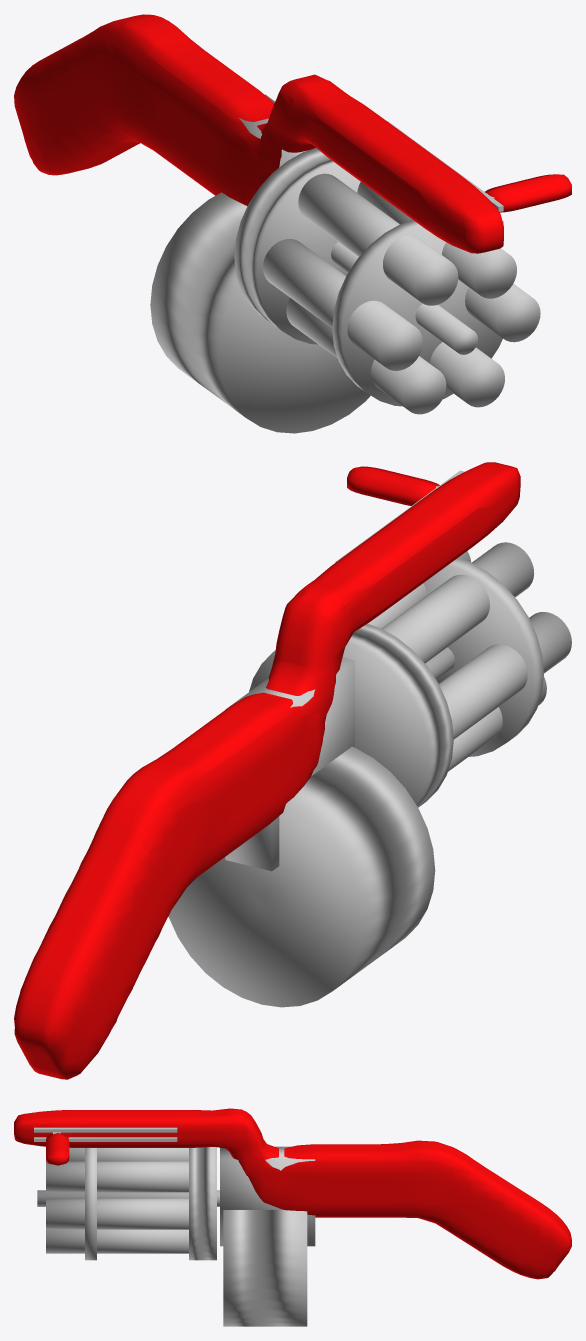
The picture shows the model from 3 angles, top to bottom: view 1: azimuth 30°, elevation 25°; view 2: azimuth 150°, elevation 25°; view 3: azimuth 270°, elevation 25°; orthographic projection. The views are drawn at different scales.
Visible parts, largest first — view 1: МСфера, Окружность.002, Окружность, Окружность.001, Цилиндр.007, Цилиндр.003, Цилиндр.004, Цилиндр.005, Цилиндр.006, Цилиндр.002, Цилиндр; view 2: МСфера, Окружность.002, Окружность, Окружность.001, Цилиндр.007, Цилиндр.003, Куб, Цилиндр.004, Цилиндр.005; view 3: МСфера, Окружность.002, Цилиндр.002, Цилиндр.005, Цилиндр.006, Окружность, Куб, Цилиндр.007, Окружность.001, Цилиндр, Куб.001_Куб.003, Куб.002_Куб.004.
Boxes of the visible parts, left/top/right/bottom form: МСфера: left=14, top=14, right=571, bottom=253; Окружность.002: left=150, top=192, right=370, bottom=433; Окружность: left=234, top=148, right=360, bottom=344; Окружность.001: left=332, top=220, right=502, bottom=406; Цилиндр.007: left=298, top=173, right=458, bottom=305; Цилиндр.003: left=263, top=239, right=422, bottom=370; Цилиндр.004: left=286, top=298, right=446, bottom=414; Цилиндр.005: left=357, top=182, right=516, bottom=298; Цилиндр.006: left=430, top=342, right=504, bottom=407; Цилиндр.002: left=465, top=284, right=540, bottom=342; Цилиндр: left=331, top=242, right=477, bottom=354; МСфера: left=14, top=462, right=520, bottom=1079; Окружность.002: left=168, top=746, right=435, bottom=1007; Окружность: left=249, top=624, right=453, bottom=807; Окружность.001: left=423, top=558, right=543, bottom=756; Цилиндр.007: left=381, top=542, right=533, bottom=663; Цилиндр.003: left=439, top=612, right=571, bottom=739; Куб: left=225, top=657, right=354, bottom=871; Цилиндр.004: left=448, top=676, right=546, bottom=771; Цилиндр.005: left=367, top=551, right=471, bottom=628; МСфера: left=14, top=1108, right=571, bottom=1279; Окружность.002: left=223, top=1210, right=307, bottom=1326; Цилиндр.002: left=46, top=1198, right=188, bottom=1229; Цилиндр.005: left=46, top=1161, right=188, bottom=1192; Цилиндр.006: left=46, top=1229, right=188, bottom=1253; Окружность: left=189, top=1147, right=216, bottom=1260; Куб: left=220, top=1146, right=315, bottom=1246; Цилиндр.007: left=46, top=1147, right=188, bottom=1161; Окружность.001: left=85, top=1148, right=96, bottom=1260; Цилиндр: left=37, top=1190, right=219, bottom=1206; Куб.001_Куб.003: left=34, top=1127, right=177, bottom=1132; Куб.002_Куб.004: left=34, top=1137, right=177, bottom=1141.
Bounding box in the file's own units: 4.79 × 7.3 × 17.55.
